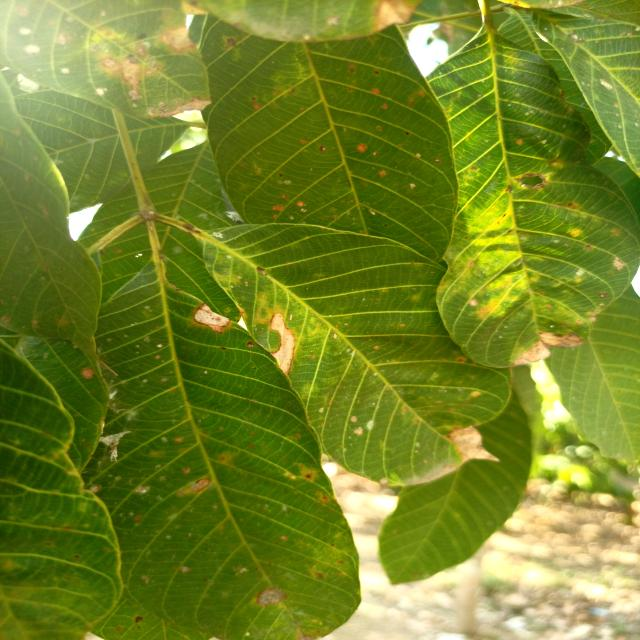Colletotrichum: (247, 341, 255, 348), (135, 616, 143, 623), (598, 293, 608, 298), (280, 194, 288, 200), (319, 146, 326, 152), (434, 157, 440, 163), (585, 244, 591, 248), (251, 97, 257, 101), (278, 174, 284, 178), (405, 132, 409, 136), (252, 365, 254, 368)
Leaf-Blight: (512, 331, 589, 365), (448, 424, 499, 464), (268, 313, 295, 374), (194, 303, 230, 334)
